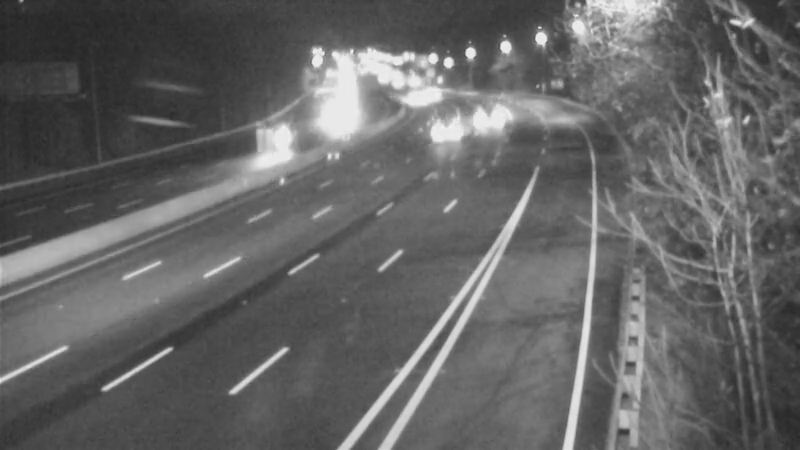vehicle: (407, 68, 457, 118), (390, 77, 440, 127), (454, 94, 504, 144), (421, 101, 471, 151), (250, 113, 300, 163), (314, 90, 364, 140)
